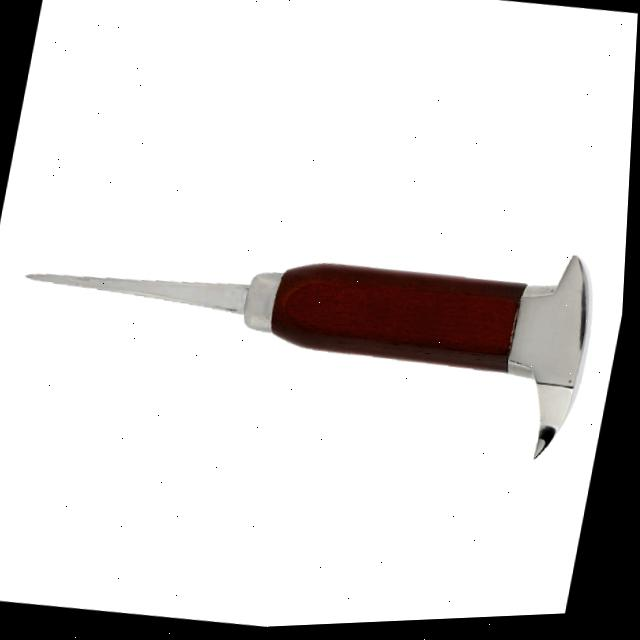ice pick: (0, 182, 611, 489)
